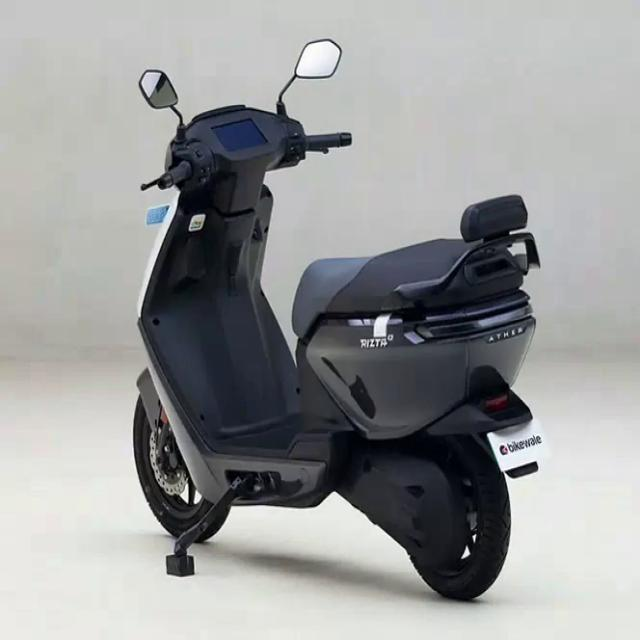objects: (106, 22, 551, 612)
